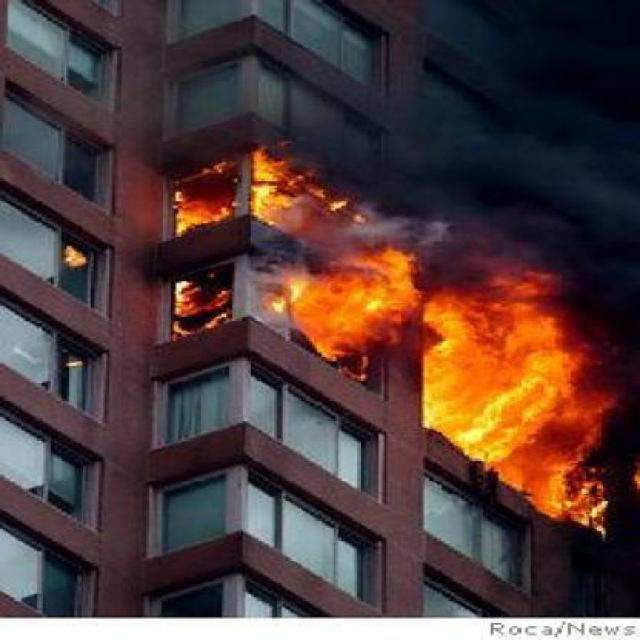Fire: (149, 140, 640, 538), (42, 230, 102, 304)
Smoke: (347, 95, 640, 275)
